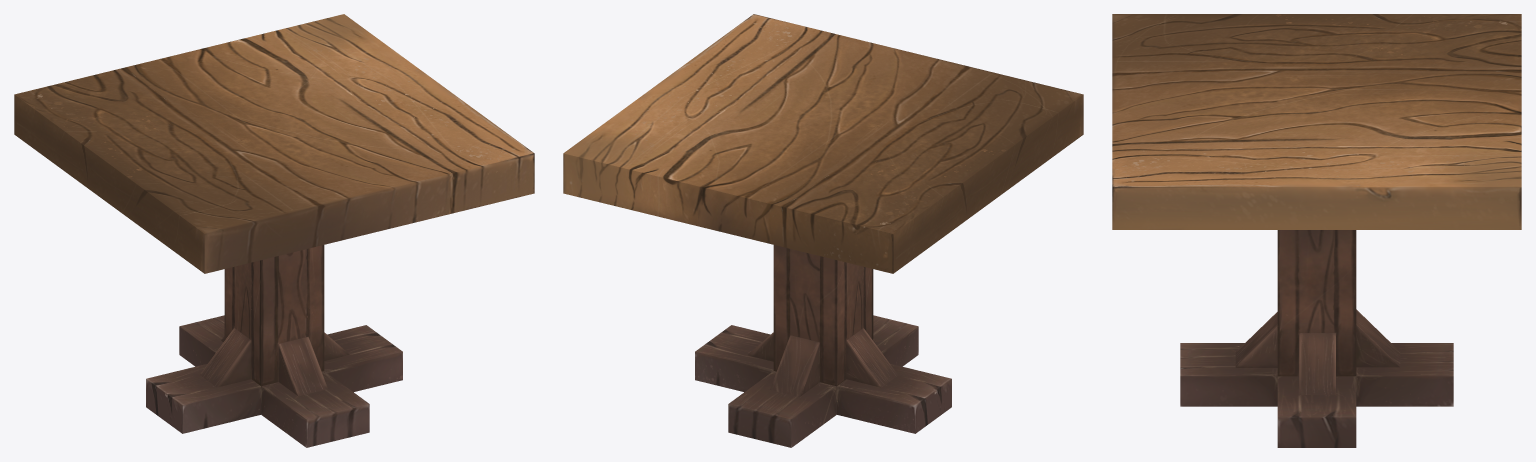
The model's file is mesa.glb.
The picture shows the model from 3 angles, left to right: view 1: azimuth 30°, elevation 25°; view 2: azimuth 150°, elevation 25°; view 3: azimuth 270°, elevation 25°; orthographic projection. The views are drawn at different scales.
Visible parts, largest first — view 1: Mesa; view 2: Mesa; view 3: Mesa.
Part boxes in pixels (box(x1,y1,x2,y2)): Mesa: box(14, 14, 534, 447); Mesa: box(563, 14, 1083, 447); Mesa: box(1112, 14, 1521, 447).
Bounding box in the file's own units: 16.99 × 13.27 × 16.99.
1 material, 1 textured.
